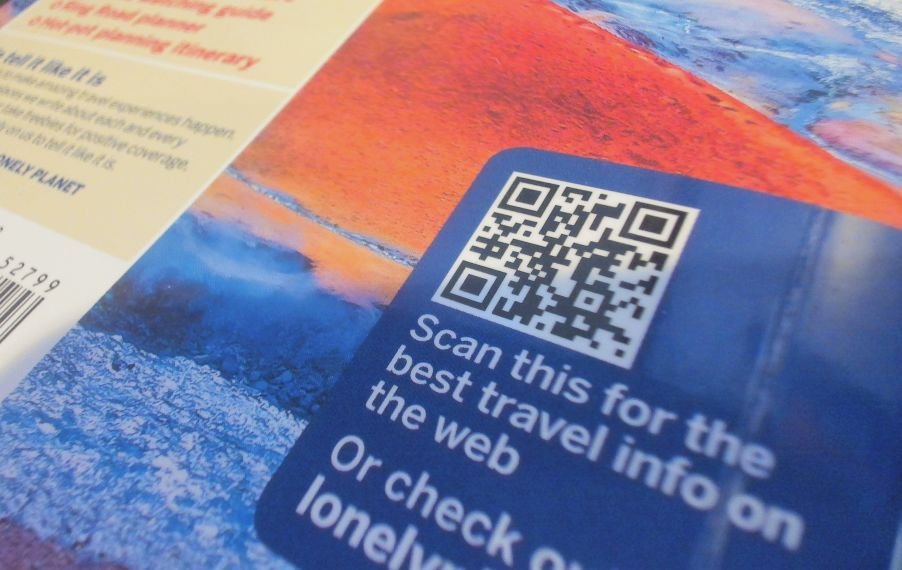QR_CODE: (435, 152, 699, 373)
